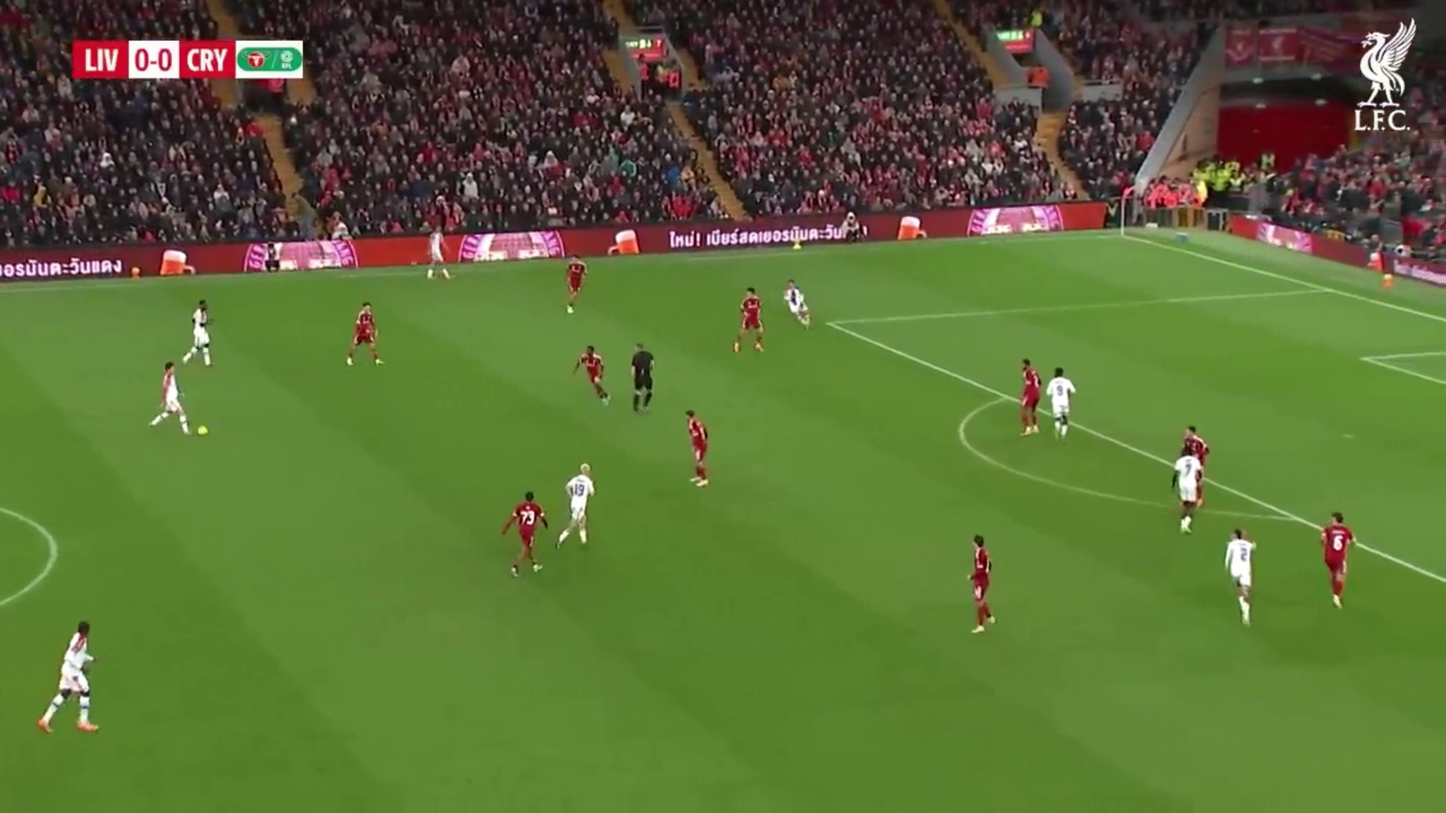player: (36, 621, 97, 735), (148, 362, 210, 436), (1171, 425, 1210, 533), (504, 490, 547, 575), (1319, 512, 1354, 609), (1224, 527, 1256, 626), (149, 363, 193, 433), (561, 461, 596, 547), (968, 534, 995, 635), (730, 287, 766, 359), (345, 302, 383, 368), (1044, 366, 1075, 442), (574, 345, 610, 404), (186, 300, 216, 370), (684, 408, 710, 488), (1018, 360, 1041, 436), (630, 345, 655, 411), (562, 257, 587, 313), (782, 281, 812, 325)
